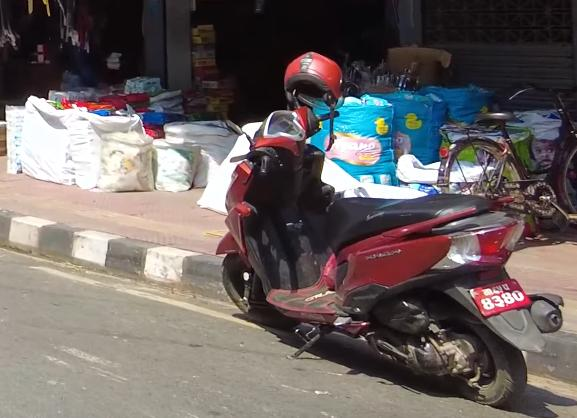scooter: (216, 88, 561, 407)
